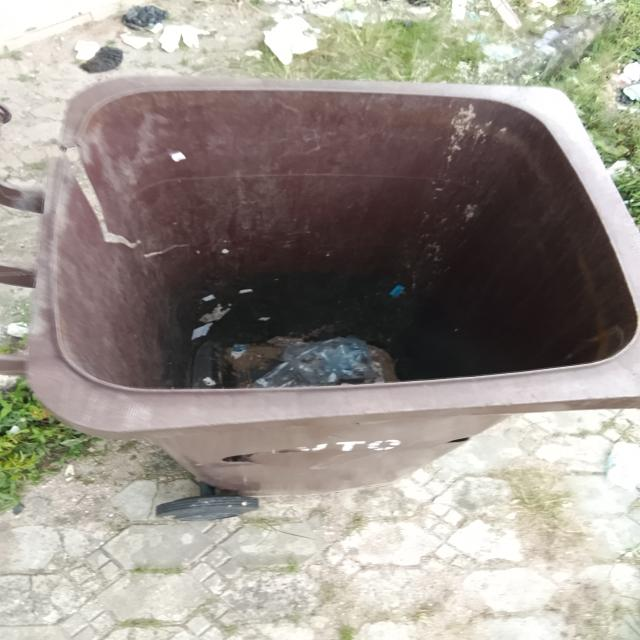empty: (40, 72, 640, 404)
